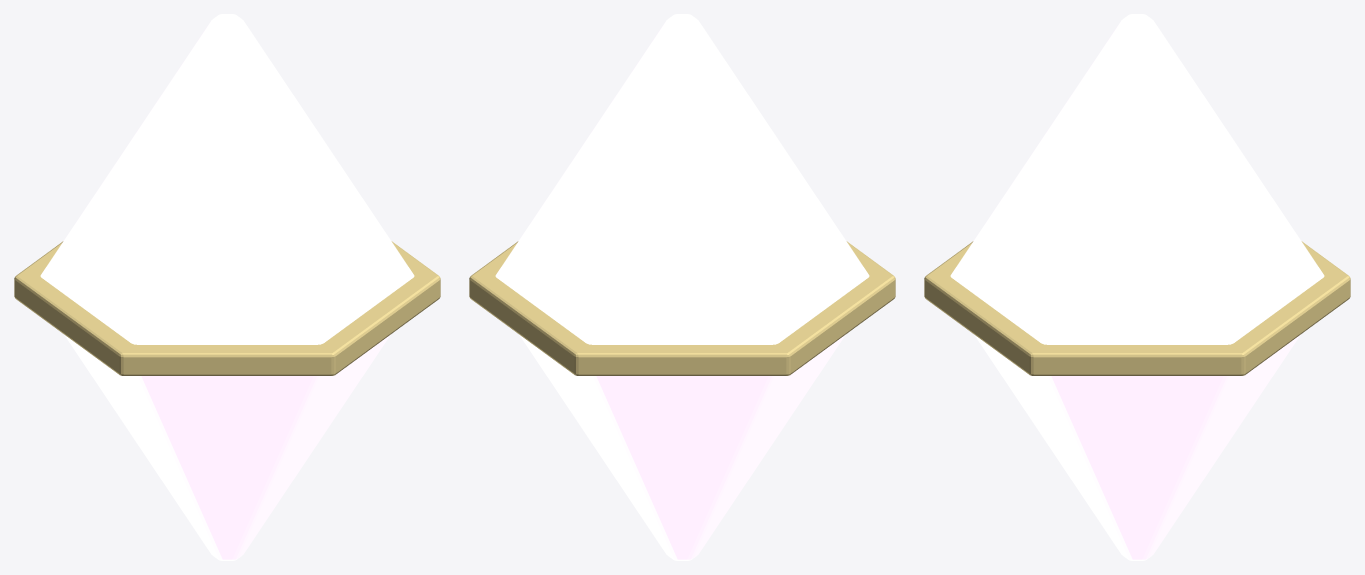
The model's file is crystal_prism.glb.
The picture shows the model from 3 angles, left to right: view 1: azimuth 30°, elevation 25°; view 2: azimuth 150°, elevation 25°; view 3: azimuth 270°, elevation 25°; orthographic projection.
Parts seen in each view (by area): view 1: TopHalf, BotHalf, Belt; view 2: TopHalf, BotHalf, Belt; view 3: TopHalf, BotHalf, Belt.
Part boxes in pixels (x1,y1,x2,y2): TopHalf: (40, 14, 414, 344); BotHalf: (64, 334, 390, 560); Belt: (14, 241, 440, 375); TopHalf: (495, 14, 869, 344); BotHalf: (519, 334, 845, 560); Belt: (469, 241, 895, 375); TopHalf: (950, 14, 1324, 344); BotHalf: (974, 334, 1300, 560); Belt: (924, 241, 1350, 375).
Bounding box in the file's own units: 3.5 × 5.6 × 4.02.
